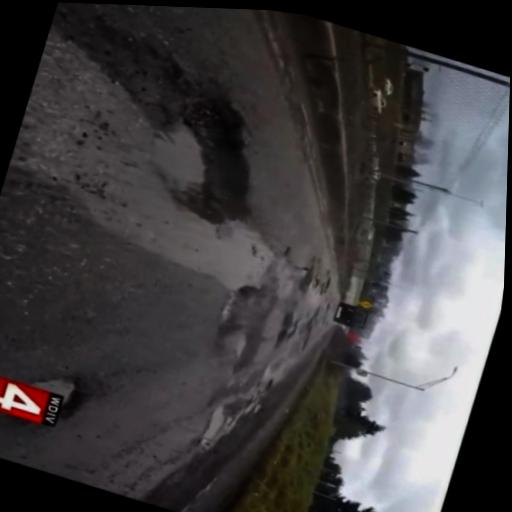pothole: (132, 142, 362, 442), (131, 204, 344, 512), (82, 41, 241, 217)
